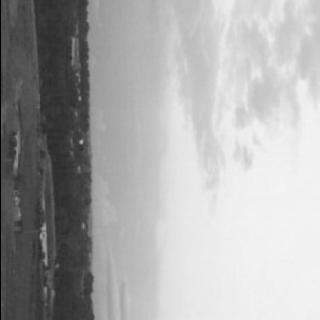Stratocumulus: (106, 0, 320, 320)
